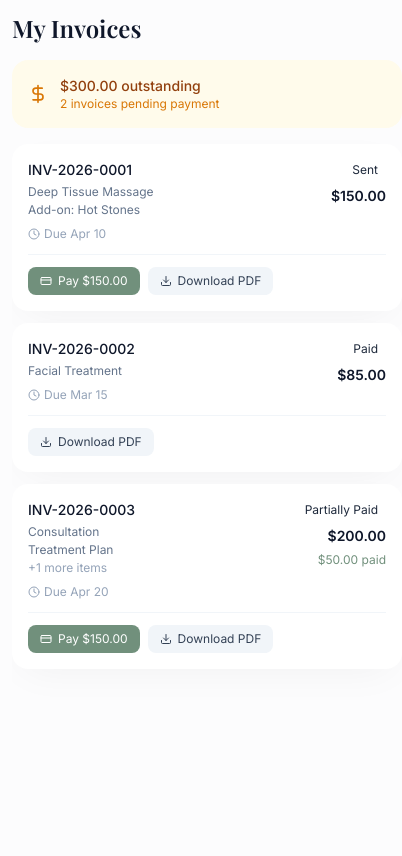
Scenario: PortalInvoicesPage › shows error message when payment fails
Expected: the text "INV-2026-0001" is shown, [28, 161, 132, 178]
Step 1. Click the button with test id "pay-now-btn" → (84, 281), box [28, 267, 140, 295]
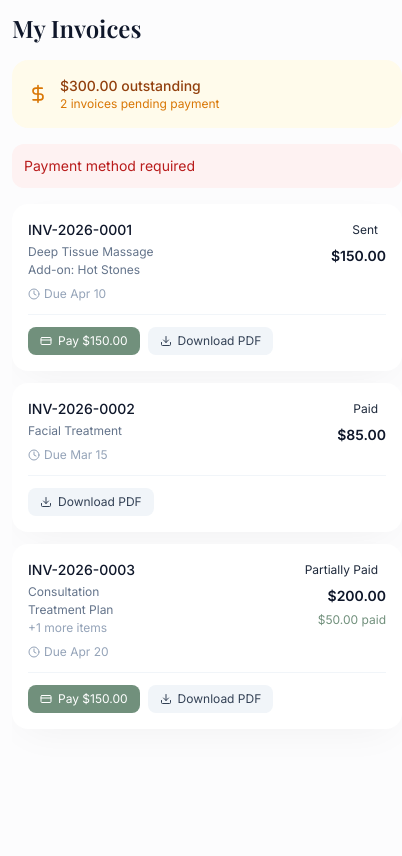
Expected: the text "Payment method required" is shown, [12, 144, 401, 188]
